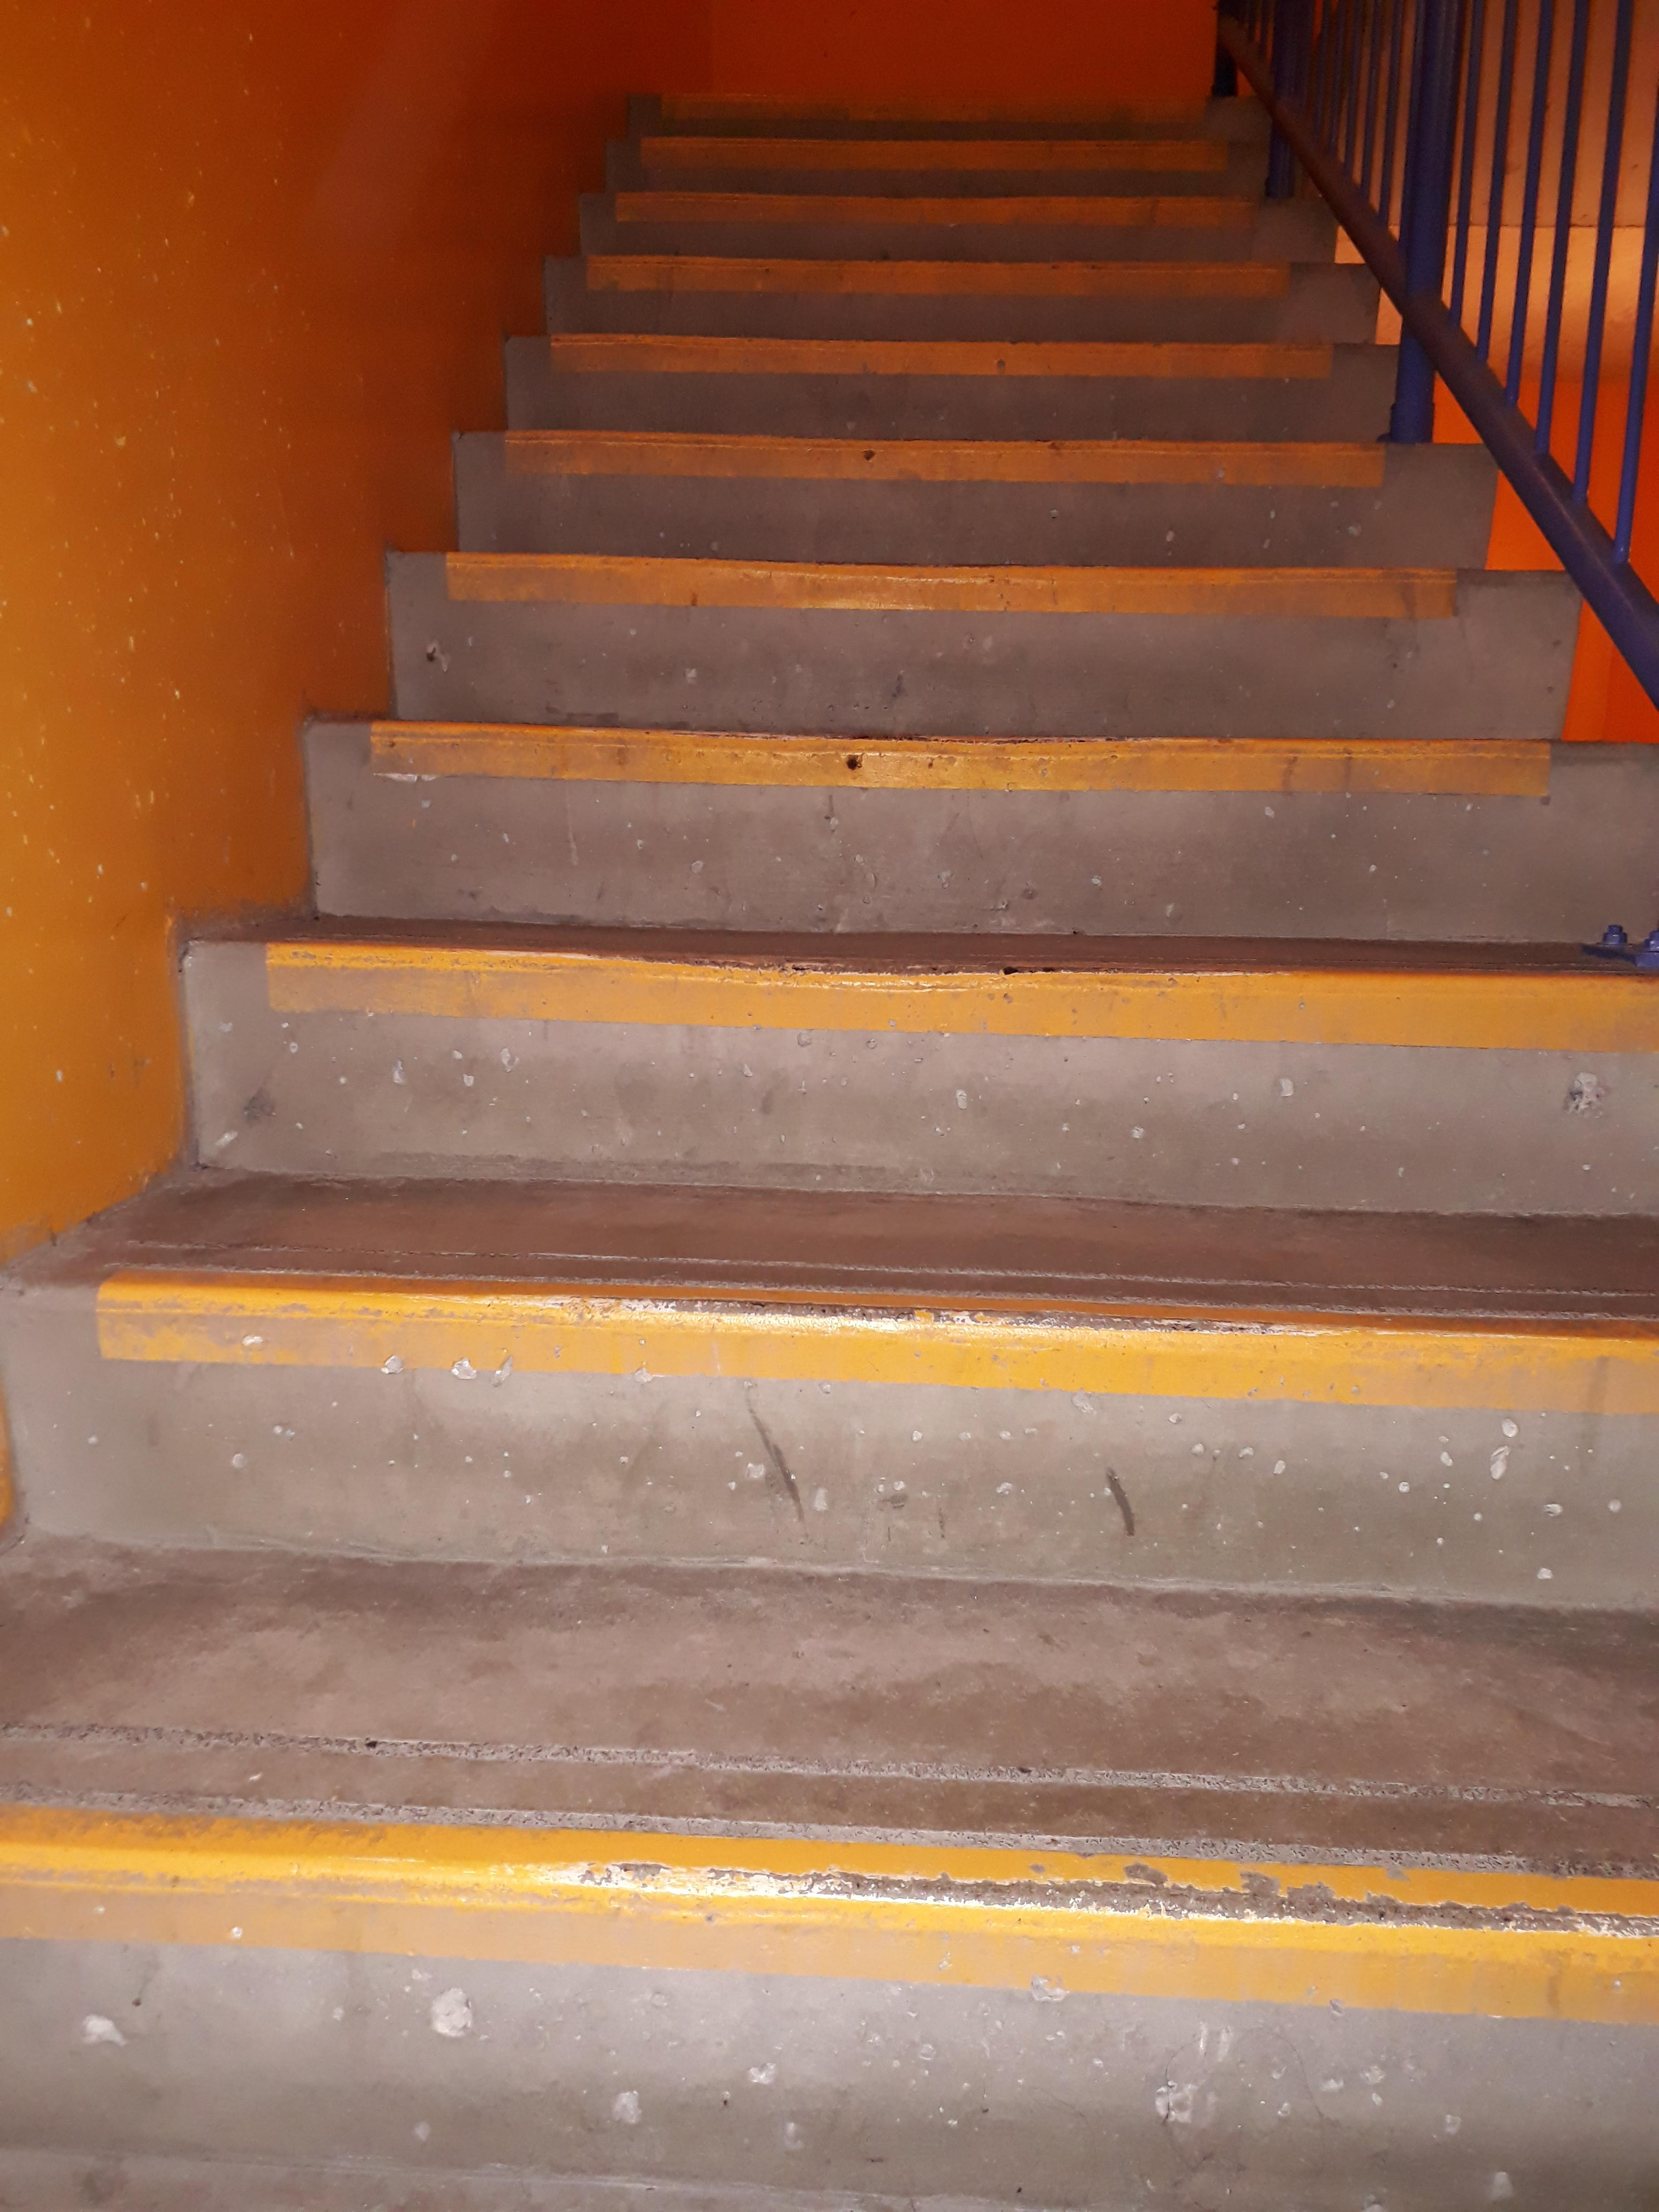stair: (0, 92, 1657, 2212)
